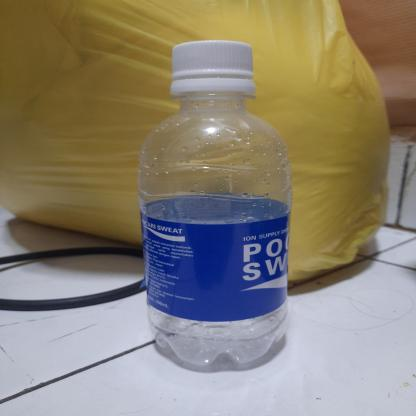bottle: (138, 38, 296, 372)
